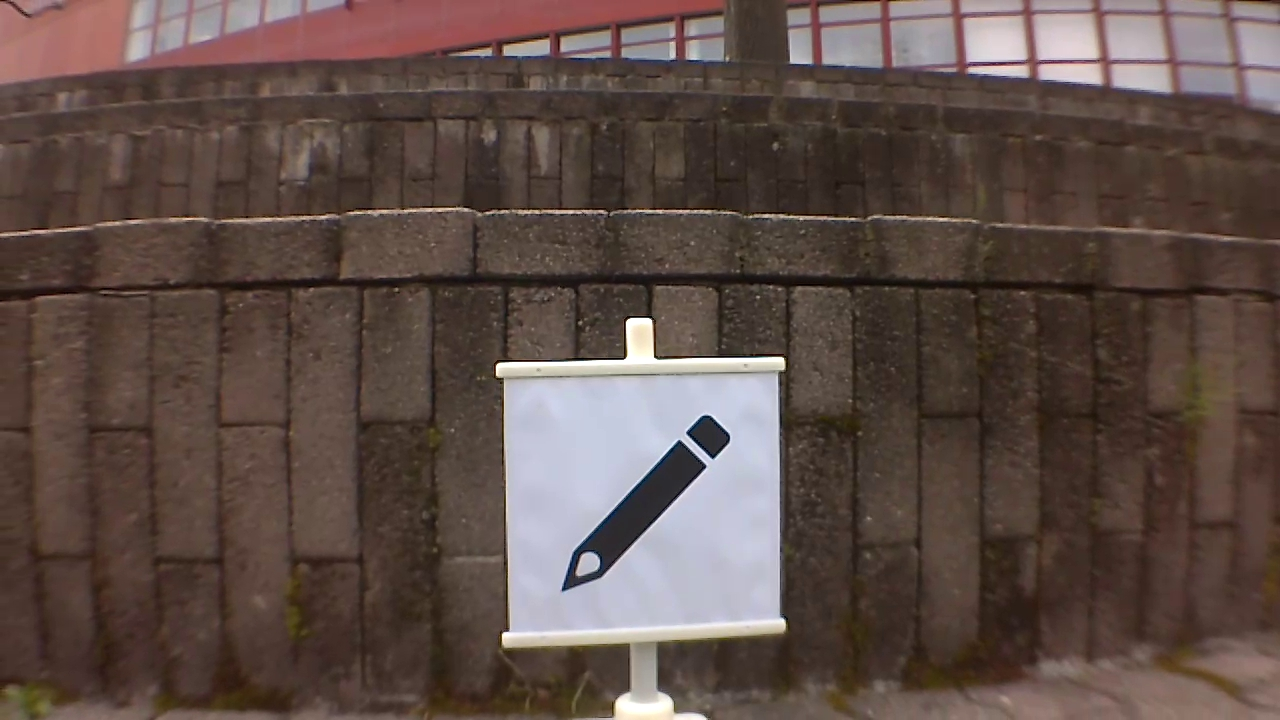pencil: (557, 410, 733, 597)
